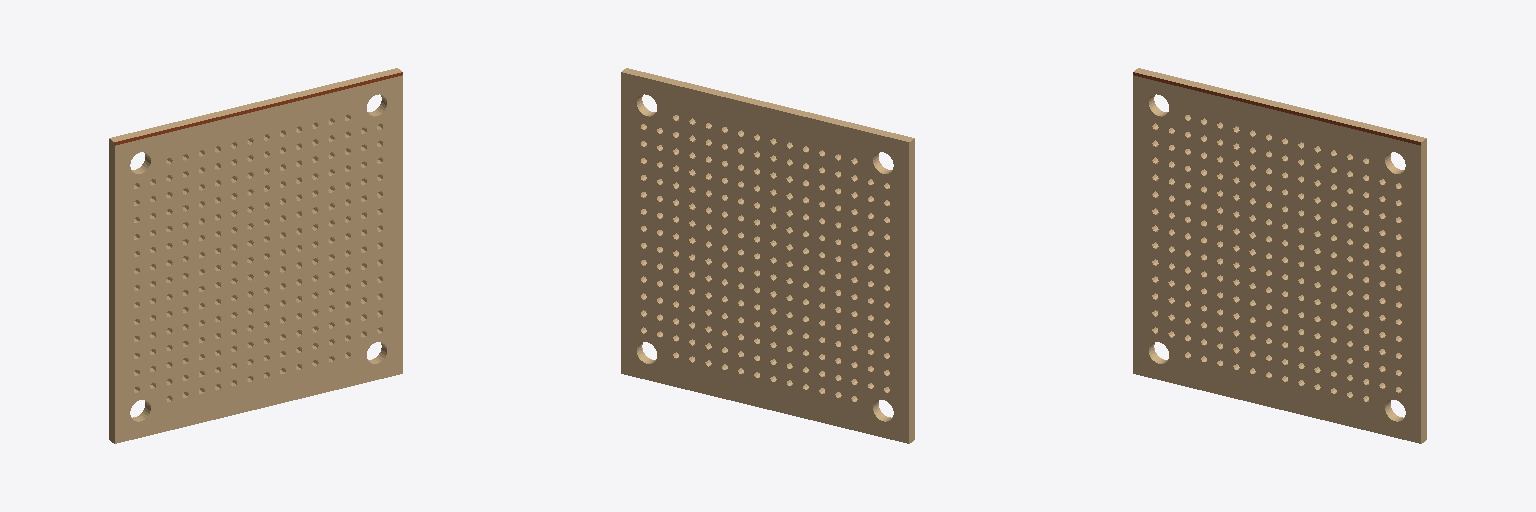
File: washing_basin2.obj
3 views of the same model, side by side, from view 1: azimuth 30°, elevation 25°; view 2: azimuth 150°, elevation 25°; view 3: azimuth 330°, elevation 25° (orthographic).
Visible parts, largest first — view 1: Mesh1 skpqVK5GQ1 Model; view 2: Mesh1 skpqVK5GQ1 Model; view 3: Mesh1 skpqVK5GQ1 Model.
Boxes of the visible parts, <box> form: Mesh1 skpqVK5GQ1 Model: <box>109,68,402,443</box>; Mesh1 skpqVK5GQ1 Model: <box>621,68,914,443</box>; Mesh1 skpqVK5GQ1 Model: <box>1133,68,1426,443</box>.
Size of the model in its own units: 0.0444 by 0.0444 by 0.0015.